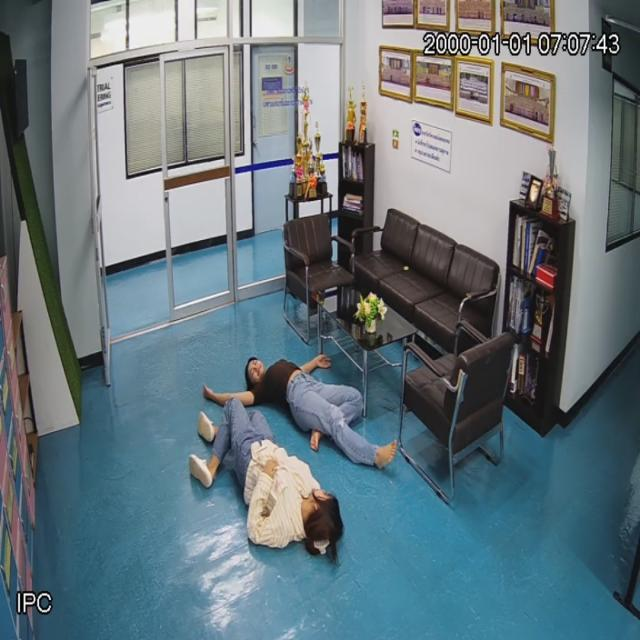fall: (195, 410, 340, 558), (248, 351, 369, 463)
